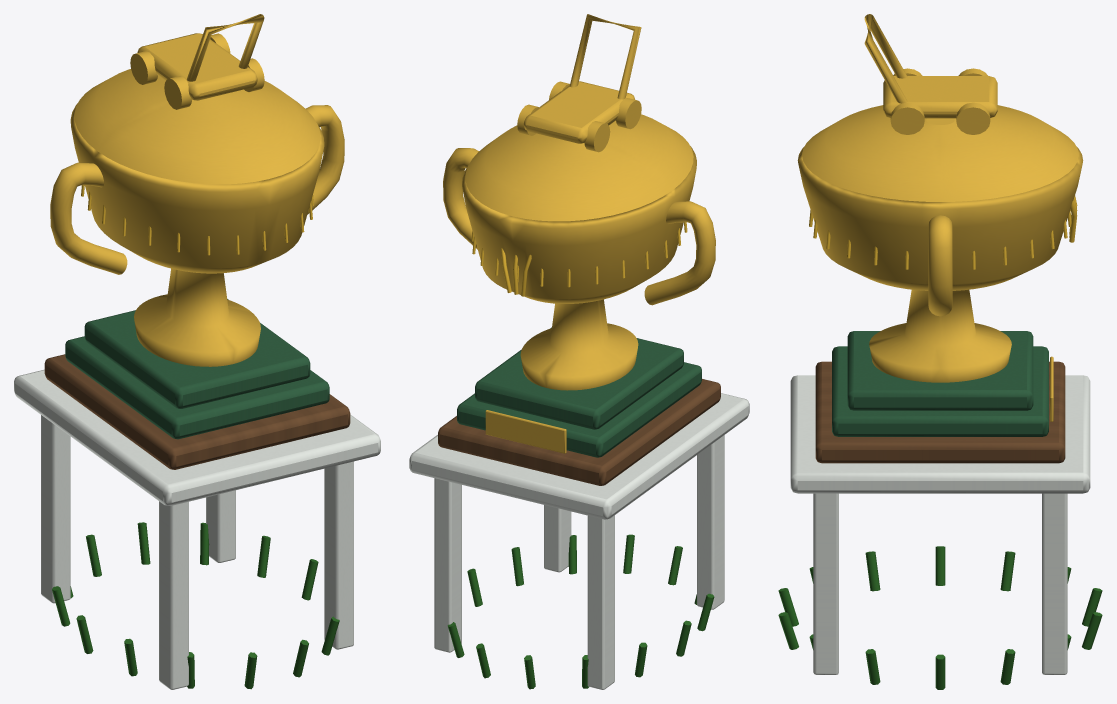
Rendered from BestYardTrophy.gltf.
3 views of the same model, side by side, from view 1: azimuth 30°, elevation 25°; view 2: azimuth 150°, elevation 25°; view 3: azimuth 270°, elevation 25° (orthographic). The views are drawn at different scales.
Visible parts, largest first — view 1: BestYardTrophy__Body, BestYardTrophy__Cup; view 2: BestYardTrophy__Body, BestYardTrophy__Cup; view 3: BestYardTrophy__Cup, BestYardTrophy__Body.
Boxes of the visible parts, bbox=[...] form: BestYardTrophy__Body: bbox=[14, 299, 380, 689]; BestYardTrophy__Cup: bbox=[50, 14, 344, 366]; BestYardTrophy__Body: bbox=[409, 327, 749, 689]; BestYardTrophy__Cup: bbox=[443, 14, 715, 390]; BestYardTrophy__Cup: bbox=[797, 14, 1083, 382]; BestYardTrophy__Body: bbox=[778, 331, 1102, 689].
Bounding box in the file's own units: 0.728 × 1.51 × 0.728.
1 material, 1 textured.
